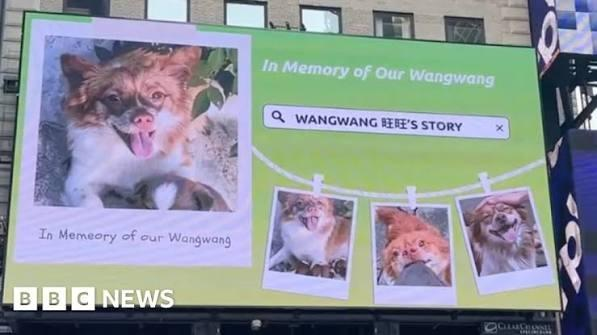adult_dog: (58, 44, 234, 213), (275, 195, 351, 278), (378, 210, 451, 286), (467, 197, 536, 274)
